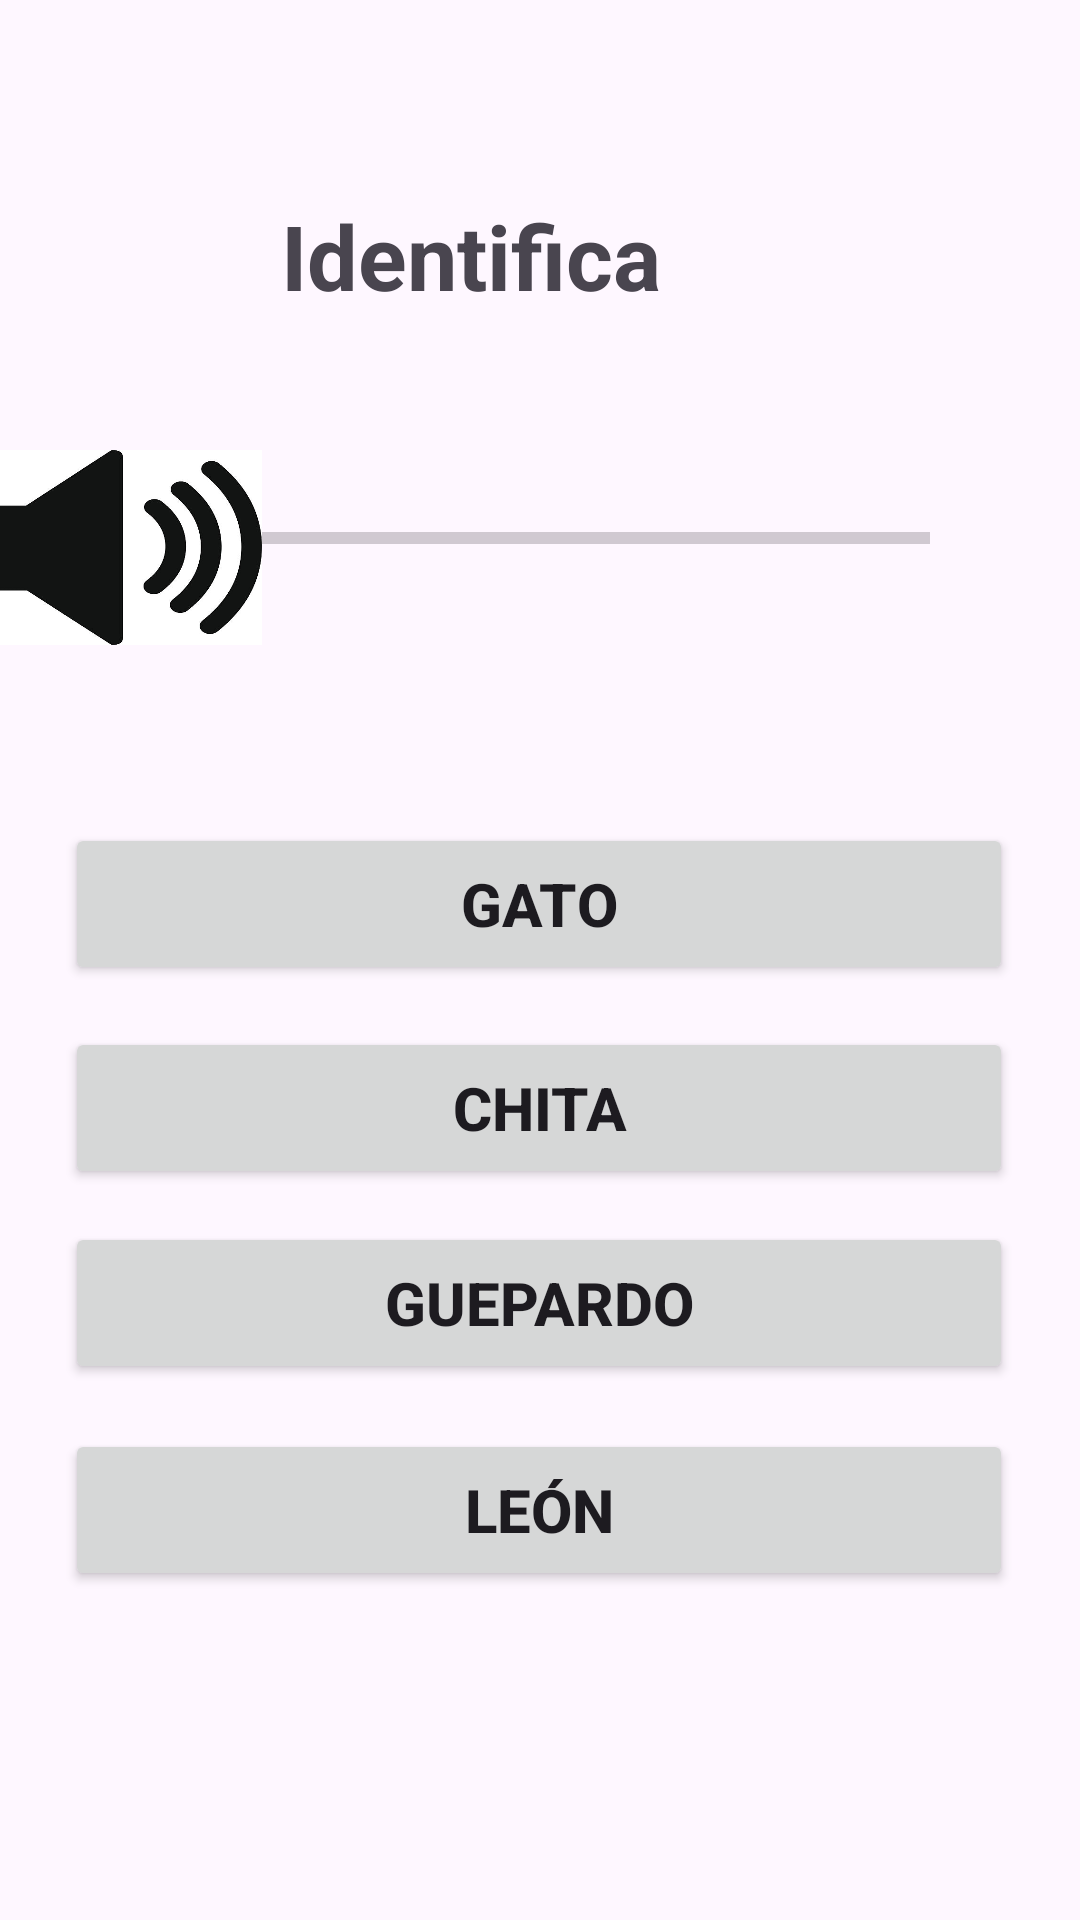

Icon click points for this 1080 x 1920 phone screenshot, format [x,y]:
audio: [111,547]
